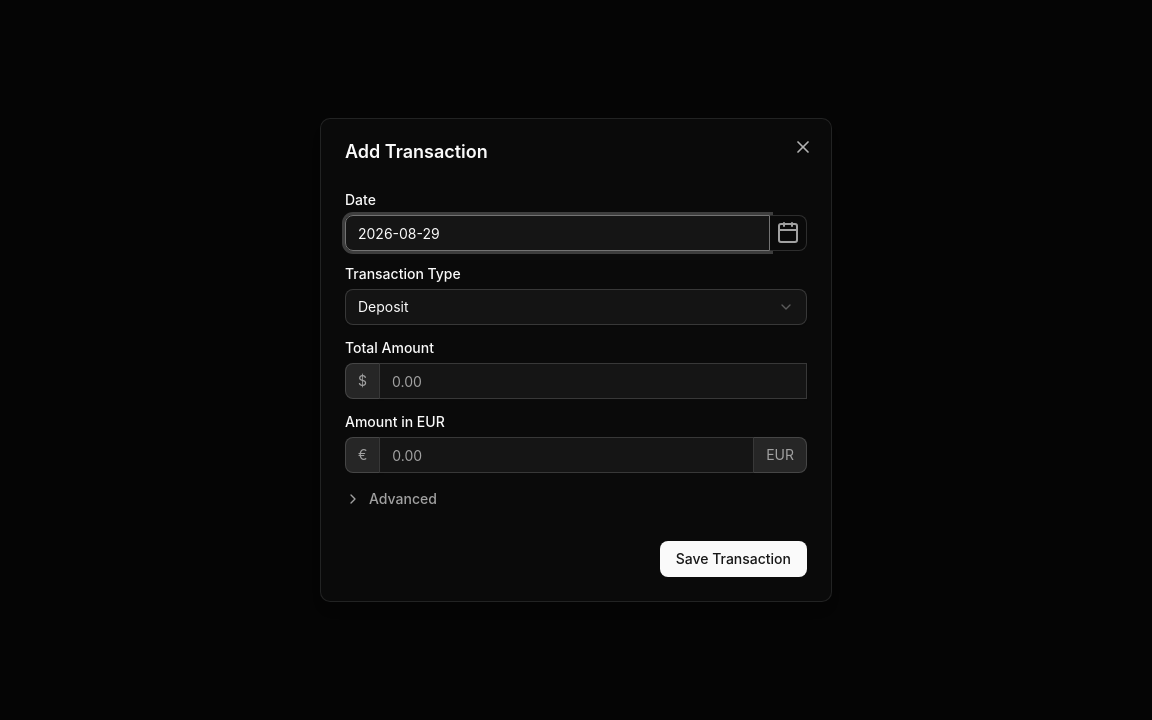
Test: TransactionModal — sell suggestions › populates Select options with holdings
Click the dropdown named "Transaction Type" at (383, 306), box [345,289,807,325]
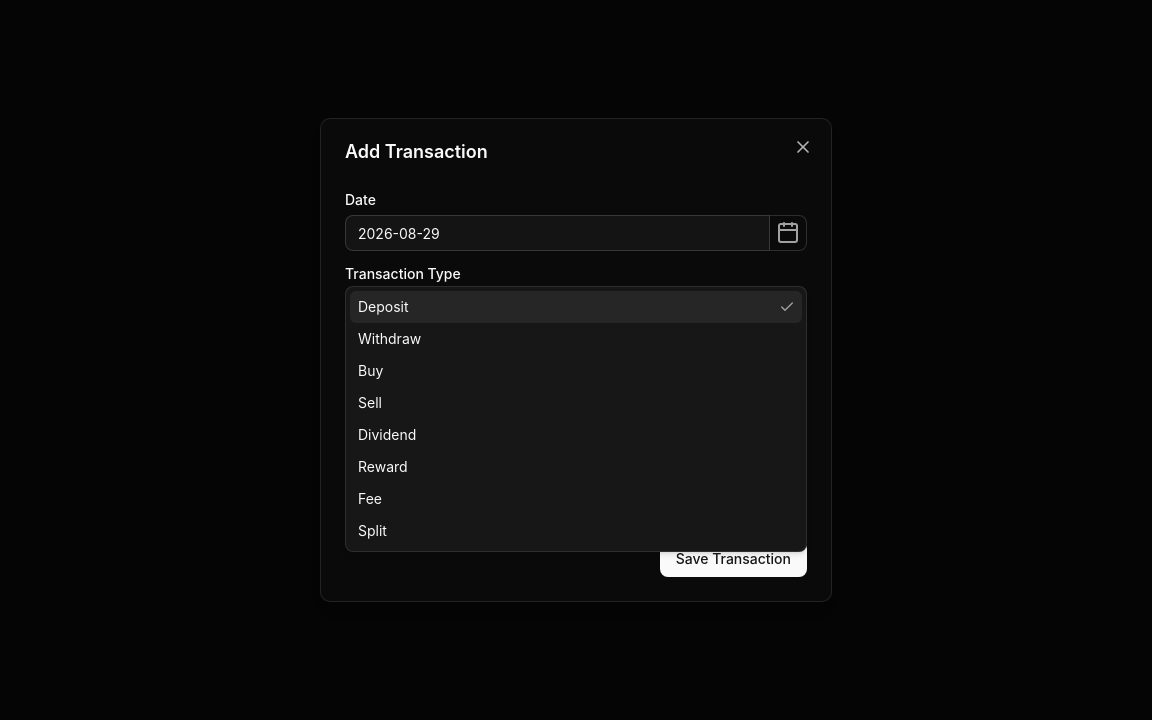
Click the option "Sell" at (370, 402), box [358,394,382,411]
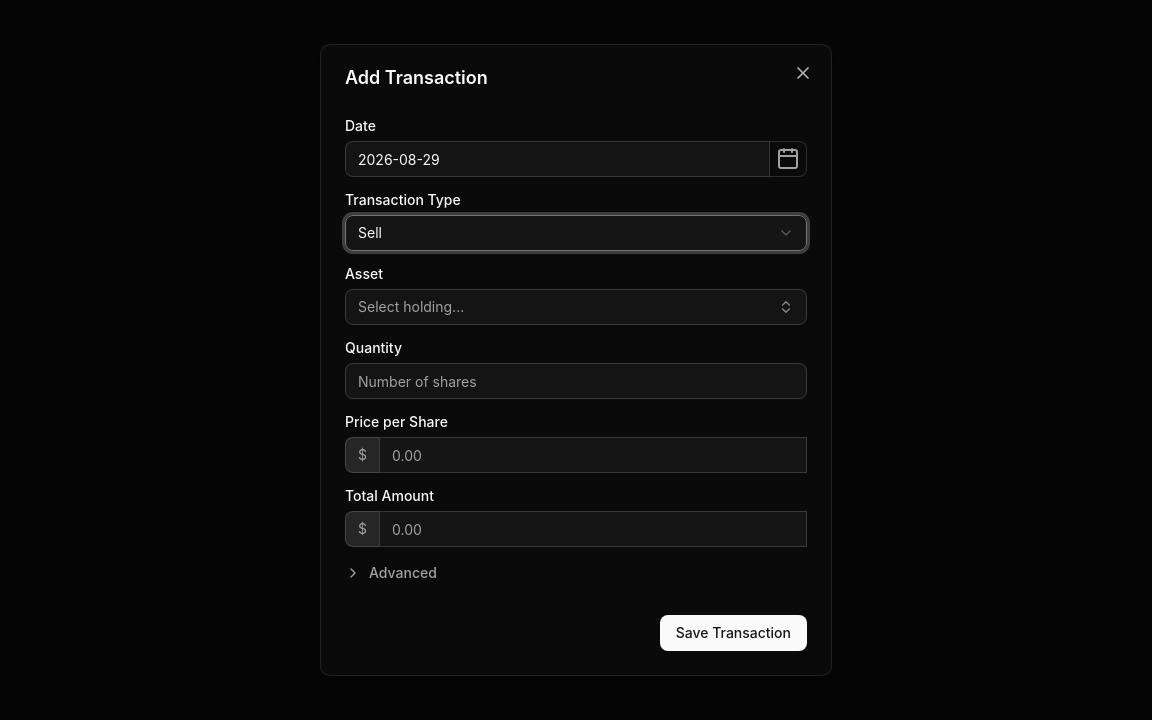
Click the dropdown named "Asset" at (411, 306), box [345,289,807,325]
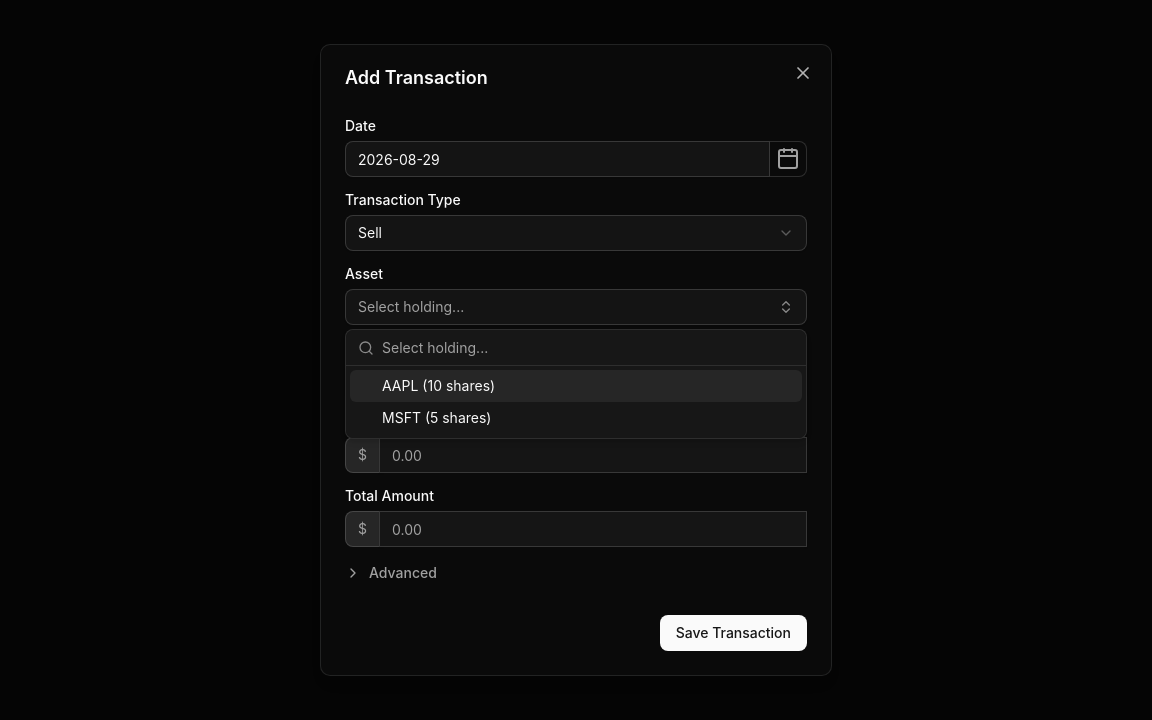
Expected: the option "AAPL (10 shares)" is shown, [350,370,802,402]
Expected: the option "MSFT (5 shares)" is shown, [382,409,492,426]
